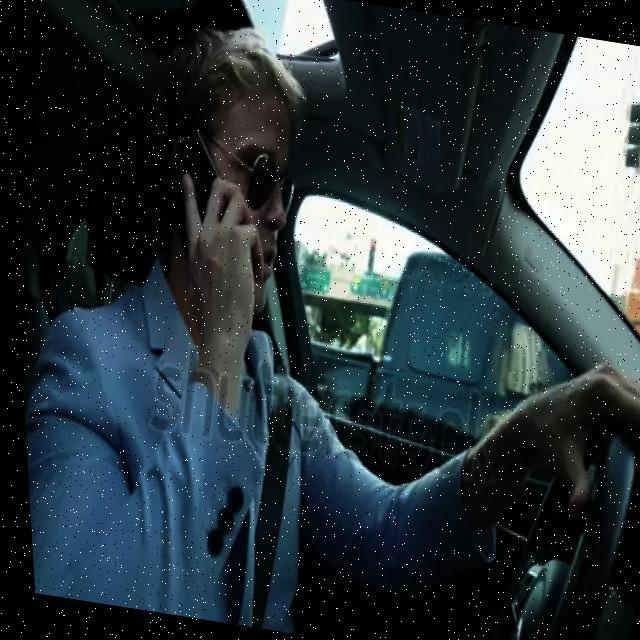PhoneCall: (143, 124, 253, 292)
